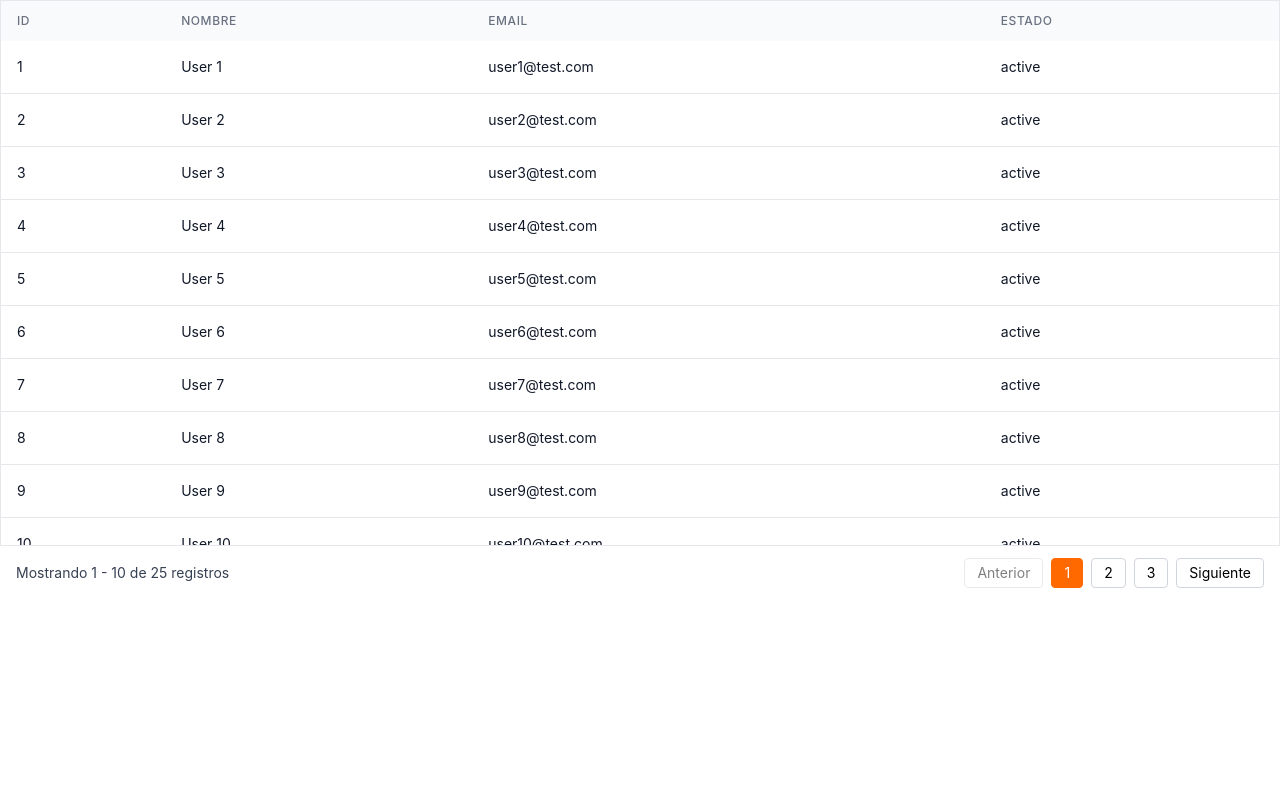
Test: Table Component › navigates to previous page
The width and height of the screenshot is (1280, 800).
Click the button "Siguiente": (1220, 573) x1=1176 y1=558 x2=1264 y2=588
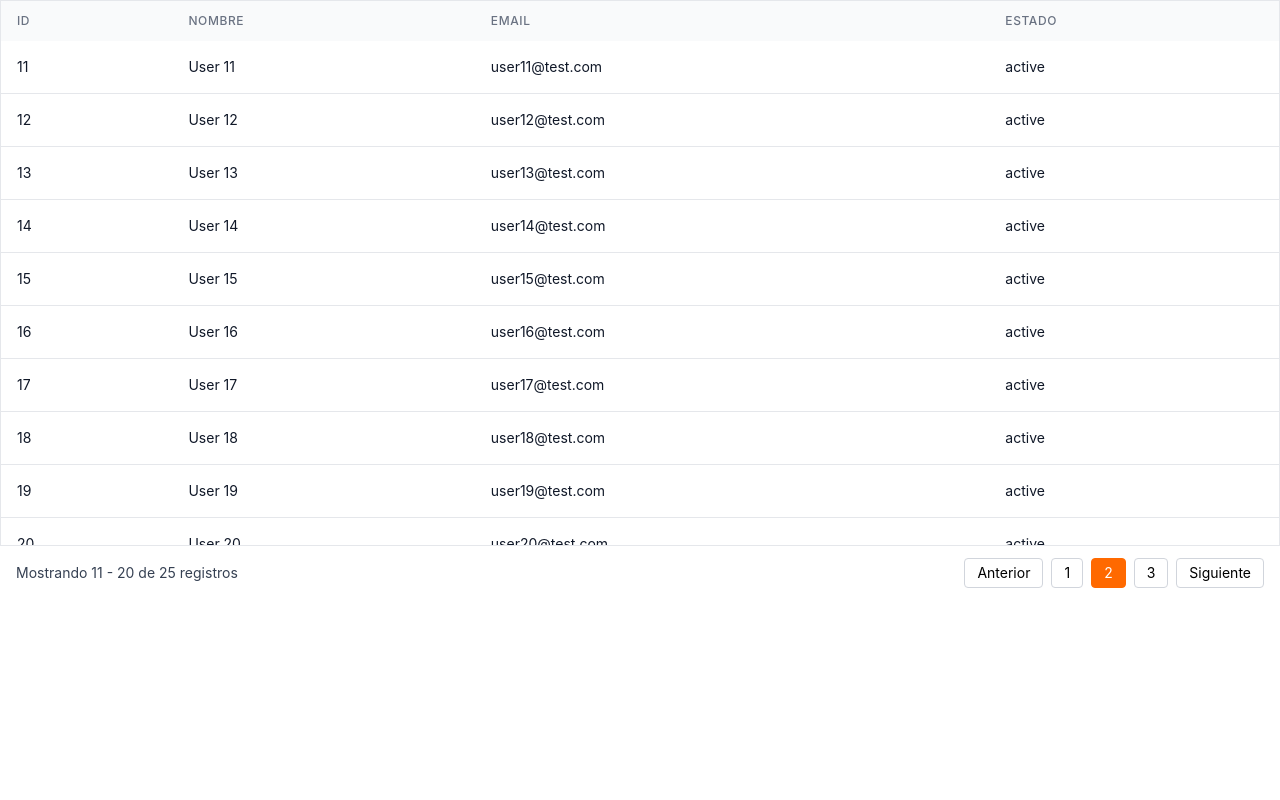
Click the button "Anterior": (1004, 573) x1=964 y1=558 x2=1043 y2=588
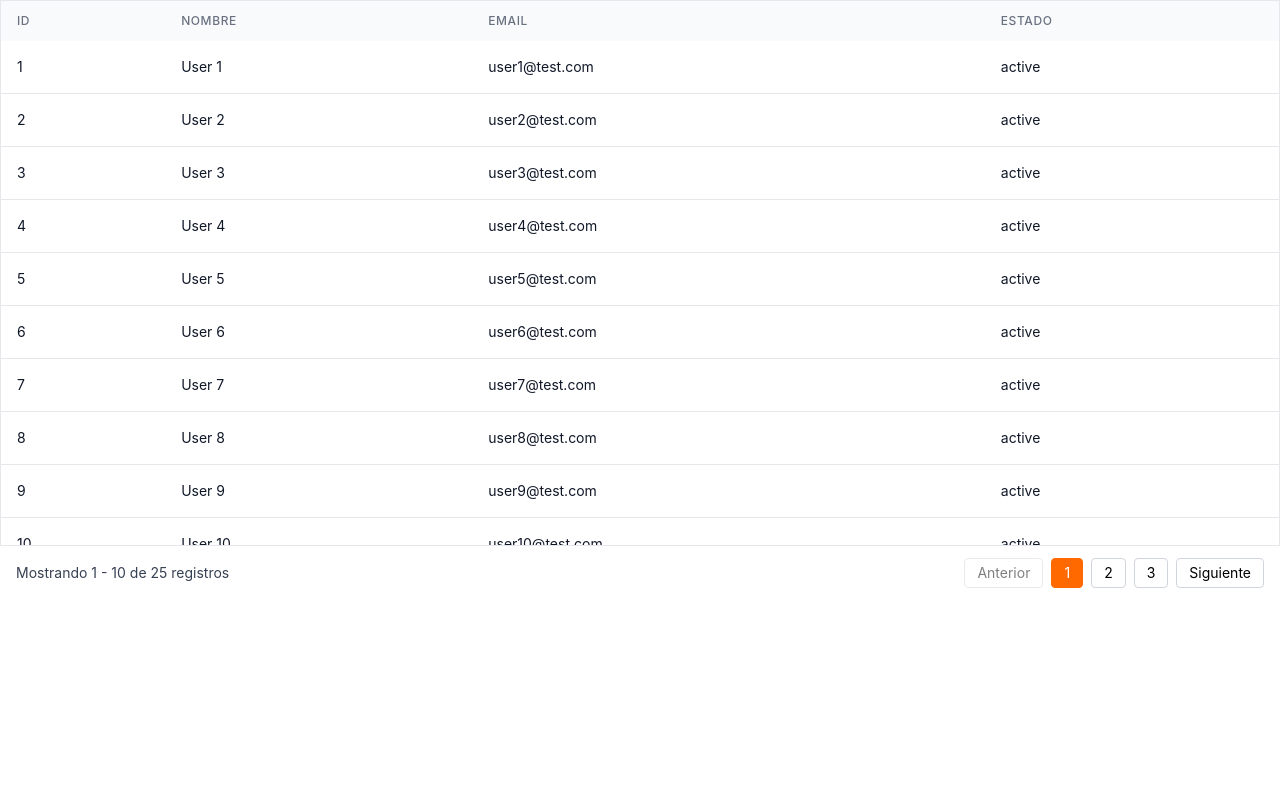
expect the text "Mostrando 1 - 10 de 25 registros" is shown: met, box x1=16 y1=563 x2=229 y2=583
